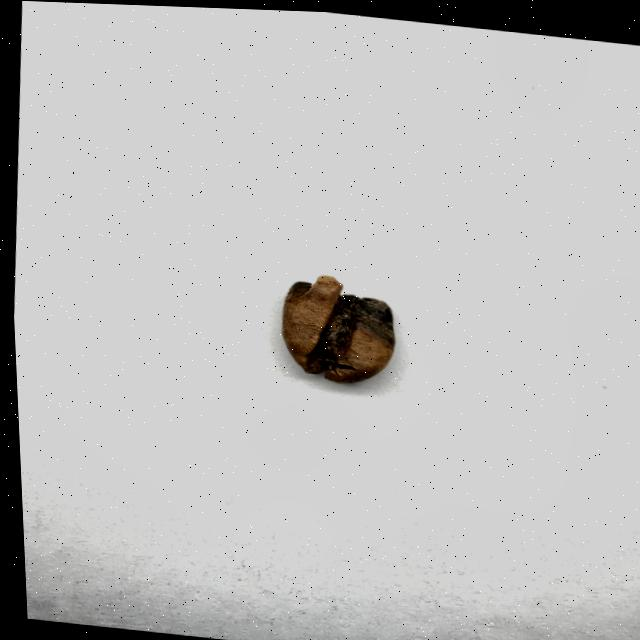Insect damage: (275, 267, 394, 386)
